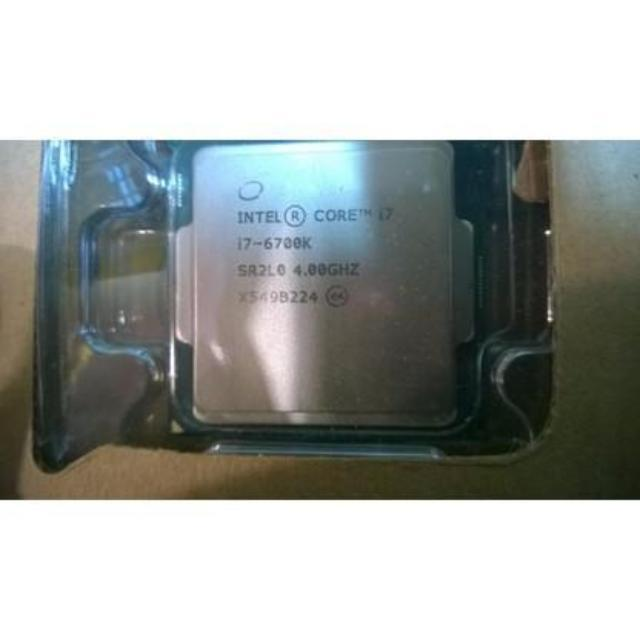CPU: (182, 138, 473, 432)
